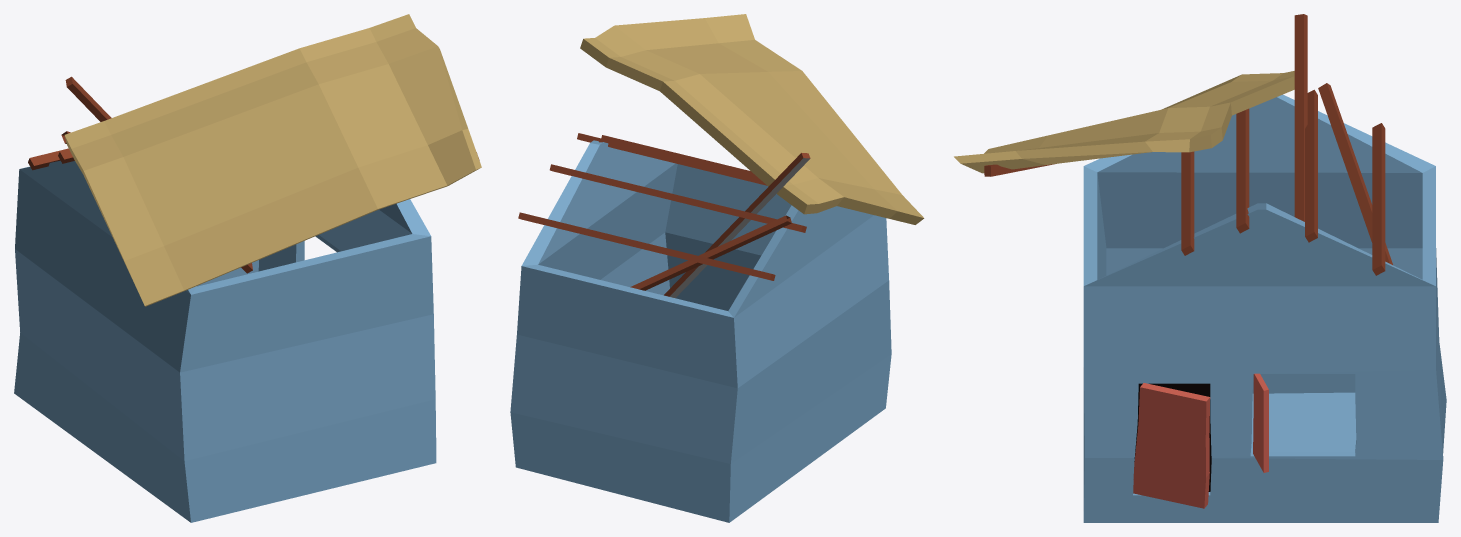
File: house_2_d2.fbx
The picture shows the model from 3 angles, left to right: view 1: azimuth 30°, elevation 25°; view 2: azimuth 150°, elevation 25°; view 3: azimuth 270°, elevation 25°; orthographic projection. The views are drawn at different scales.
Parts seen in each view (by area): view 1: 2_House _30; view 2: 2_House _30; view 3: 2_House _30.
Boxes of the visible parts, left/top/right/bottom form: 2_House _30: left=14, top=14, right=481, bottom=522; 2_House _30: left=510, top=14, right=924, bottom=522; 2_House _30: left=954, top=14, right=1446, bottom=522.
Size of the model in its own units: 4.49 by 5.17 by 5.7.
